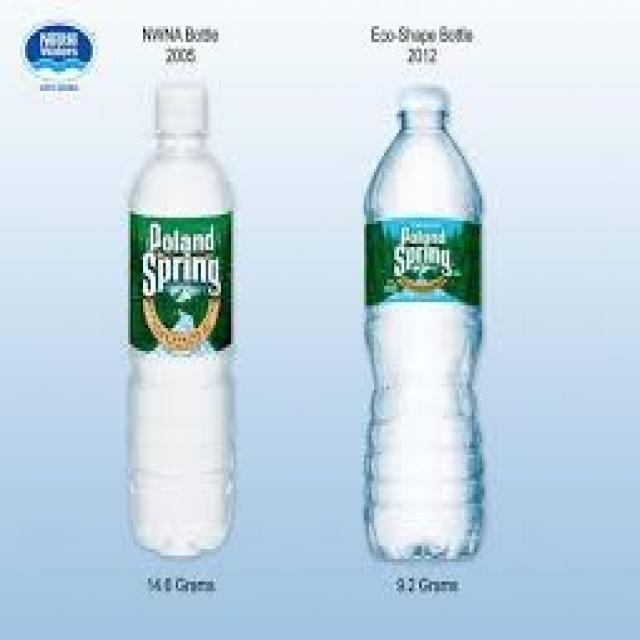Plastic: (366, 86, 490, 564), (128, 72, 234, 564)
